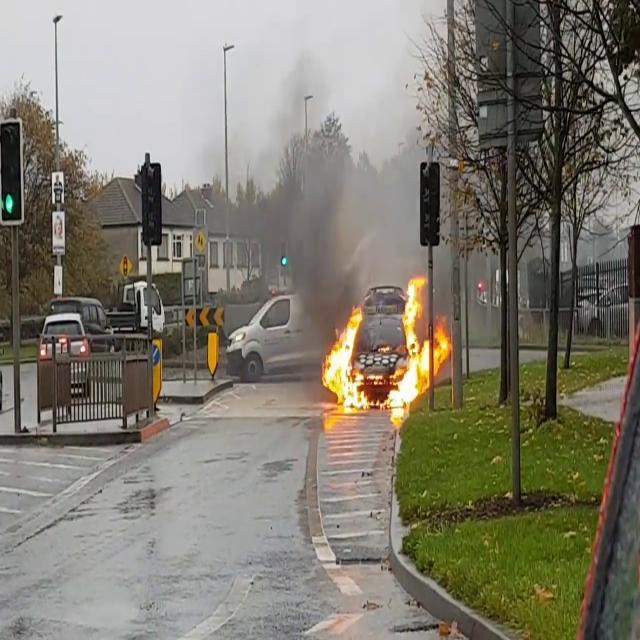Fire: (319, 273, 451, 417)
Smoke: (268, 102, 424, 313)
